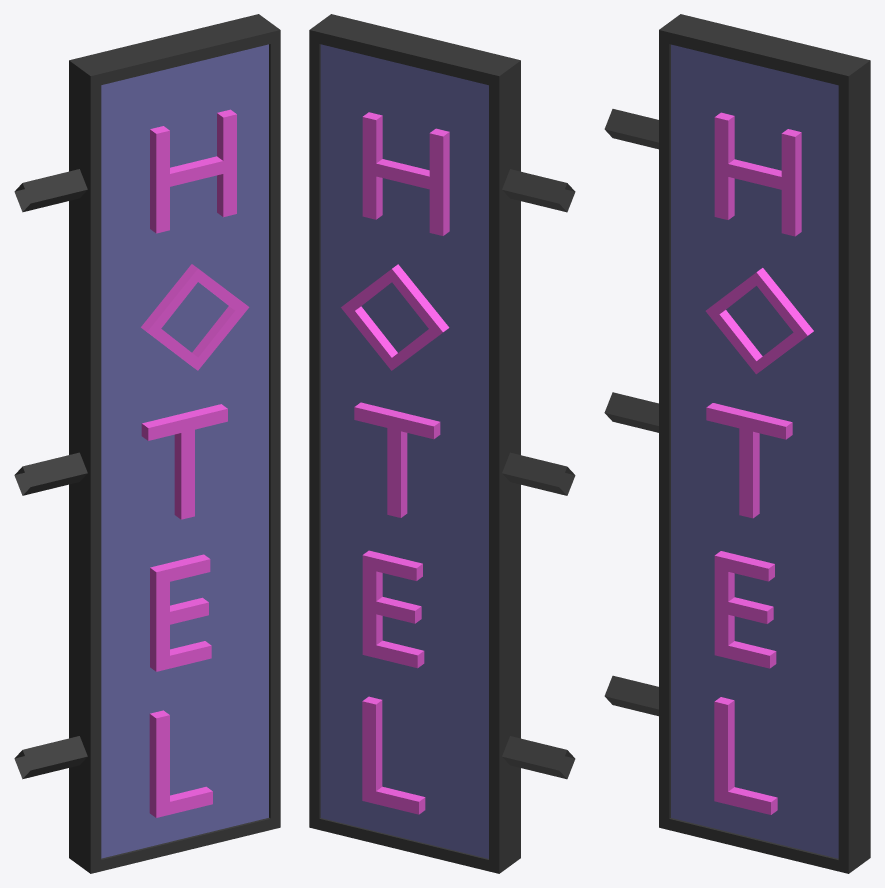
File: model-scenario-static-level0-board-hotel.fbx
The picture shows the model from 3 angles, left to right: view 1: azimuth 30°, elevation 25°; view 2: azimuth 150°, elevation 25°; view 3: azimuth 330°, elevation 25°; orthographic projection.
Visible parts, largest first — view 1: board; view 2: board; view 3: board.
Boxes of the visible parts, x1,y1,x2,y2 form: board: [14, 14, 280, 873]; board: [309, 14, 575, 873]; board: [604, 14, 870, 873].
Size of the model in its own units: 0.5834 by 2.6 by 8.03.
